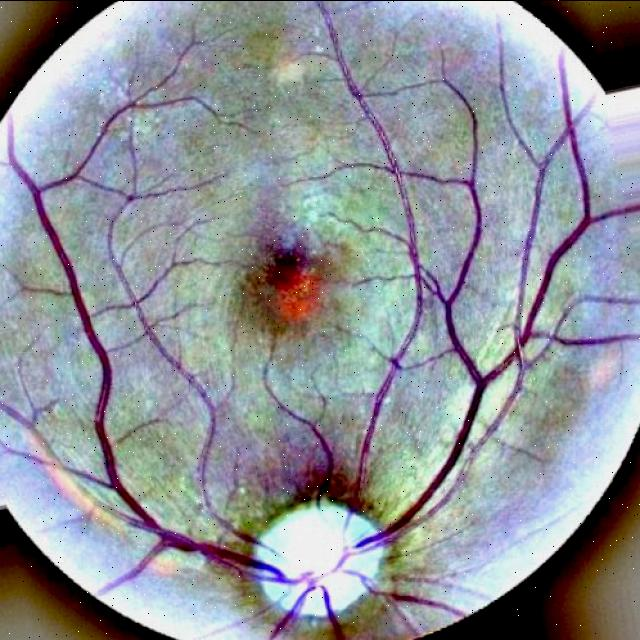Macula: (267, 249, 320, 320)
Nerves: (3, 64, 640, 640), (127, 269, 278, 553)
Optic Disk: (254, 499, 384, 616)
